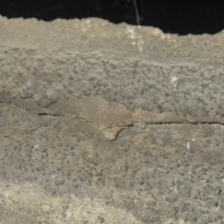Crack: (3, 45, 219, 101)
